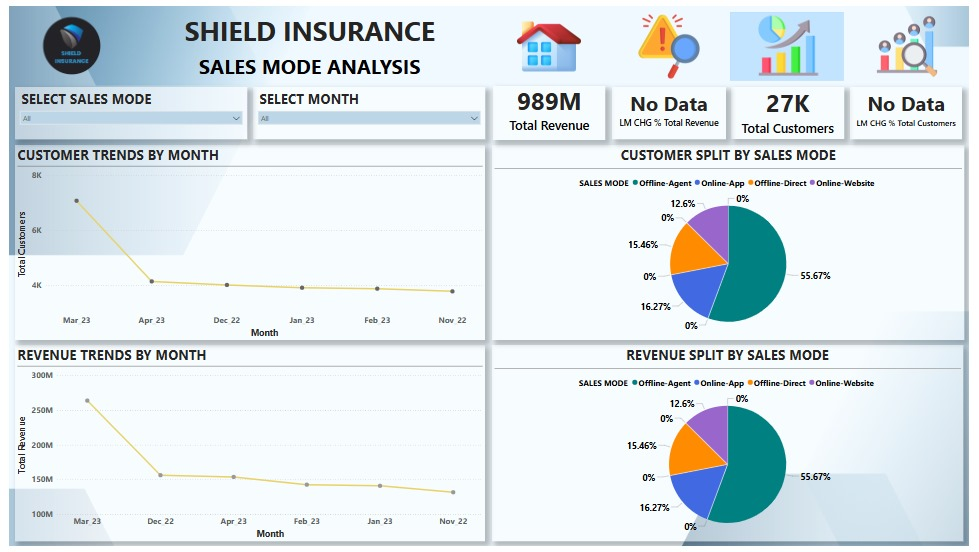

The dashboard page shown, as its layout file describes it:
{"tool":"powerbi","page":{"name":"SALES MODE ANALYSIS","canvas":[1920,1080],"ordinal":2},"visuals":[{"type":"lineChart","title":"REVENUE TRENDS BY MONTH","fields":{"Y":["DAX Measures.Total Revenue"],"Category":["dim_date.mmm_yy"]},"box":[12.5,677.5,940,392.5],"z":1000},{"type":"lineChart","title":"CUSTOMER TRENDS BY MONTH","fields":{"Y":["DAX Measures.Total Customers"],"Category":["dim_date.mmm_yy"]},"box":[12.5,277.5,940,390],"z":2000},{"type":"pieChart","title":"CUSTOMER SPLIT BY SALES MODE","fields":{"Category":["fact_premiums.sales_mode"],"Y":["DAX Measures.Total Customers","DAX Measures.Total Revenue"]},"box":[965,277.5,945,390],"z":3000},{"type":"pieChart","title":"REVENUE SPLIT BY SALES MODE","fields":{"Category":["fact_premiums.sales_mode"],"Y":["DAX Measures.Total Customers","DAX Measures.Total Revenue"]},"box":[965,677.5,942.5,392.5],"z":4000},{"type":"slicer","fields":{"Values":["dim_date.mmm_yy"]},"box":[487.5,162.5,465,105],"z":5000},{"type":"slicer","fields":{"Values":["fact_premiums.sales_mode"]},"box":[12.5,162.5,465,105],"z":6000},{"type":"image","box":[12.5,12.5,227.5,135],"z":7000},{"type":"shape","box":[1442.5,12.5,227.5,137.5],"z":8000},{"type":"image","box":[1205,12.5,227.5,137.5],"z":9000},{"type":"image","box":[1682.5,12.5,227.5,137.5],"z":10000},{"type":"image","box":[965,12.5,227.5,137.5],"z":11000},{"type":"textbox","title":"SHIELD INSURANCE ","box":[250,12.5,702.5,135],"z":12000},{"type":"card","fields":{"Values":["DAX Measures.Total Customers"]},"box":[1444.4,162.2,226.7,104.4],"z":13000},{"type":"card","fields":{"Values":["DAX Measures.Total Revenue"]},"box":[967.5,160,225,107.5],"z":14000},{"type":"card","fields":{"Values":["DAX Measures.LM CHG % Total Revenue"]},"box":[1205,162.5,227.5,105],"z":15000},{"type":"card","fields":{"Values":["DAX Measures.LM CHG % Total Customers"]},"box":[1682.2,162.2,224.4,105],"z":16000},{"type":"image","box":[1445,12.5,225,135],"z":17000}]}

Visuals, with their boxes in screenshot pixels (x1, y1, x2, y2), scaled from the page's 1920x1080 canvas onto the 979x552 screenshot:
"REVENUE TRENDS BY MONTH" lineChart: detection(6, 346, 486, 547)
"CUSTOMER TRENDS BY MONTH" lineChart: detection(6, 142, 486, 341)
"CUSTOMER SPLIT BY SALES MODE" pieChart: detection(492, 142, 974, 341)
"REVENUE SPLIT BY SALES MODE" pieChart: detection(492, 346, 973, 547)
slicer - dim_date.mmm_yy: detection(249, 83, 486, 137)
slicer - fact_premiums.sales_mode: detection(6, 83, 243, 137)
image: detection(6, 6, 122, 75)
shape: detection(736, 6, 852, 77)
image: detection(614, 6, 730, 77)
image: detection(858, 6, 974, 77)
image: detection(492, 6, 608, 77)
"SHIELD INSURANCE " textbox: detection(127, 6, 486, 75)
card - DAX Measures.Total Customers: detection(736, 83, 852, 136)
card - DAX Measures.Total Revenue: detection(493, 82, 608, 137)
card - DAX Measures.LM CHG % Total Revenue: detection(614, 83, 730, 137)
card - DAX Measures.LM CHG % Total Customers: detection(858, 83, 972, 137)
image: detection(737, 6, 852, 75)
